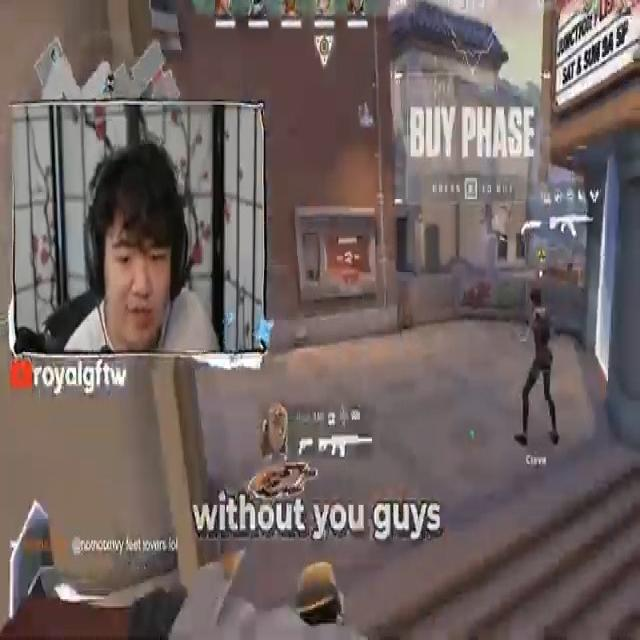ally: (512, 283, 566, 455)
